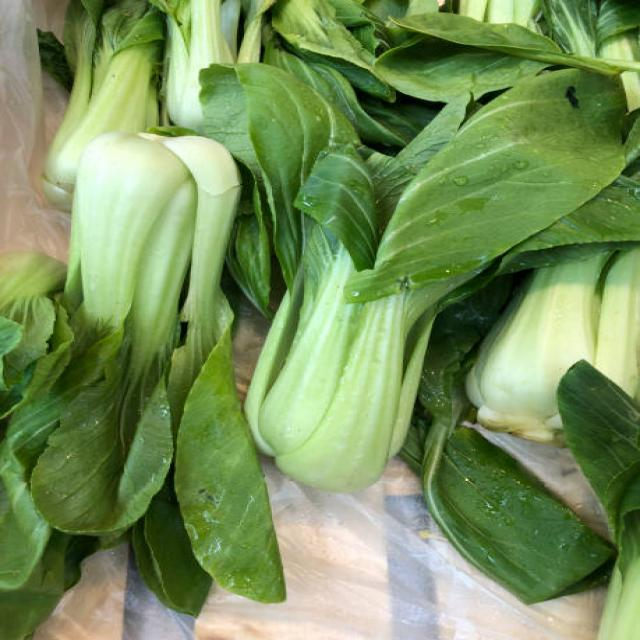Bok Choy: (1, 137, 233, 564), (276, 128, 440, 476)
